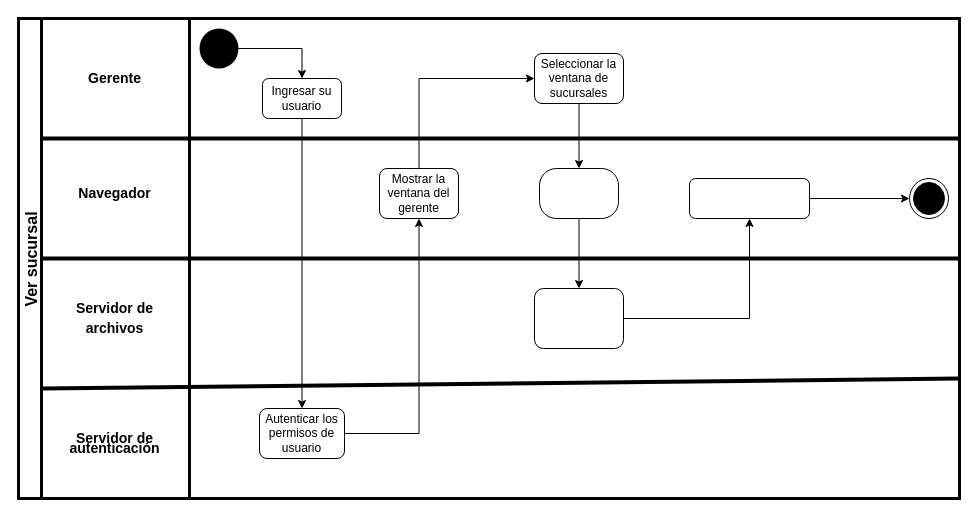
Image size: 980x518. Some labels were removed from this diagram. The centre of each missing label's shape, as x and y in pixels:
"Mostrar sucursal" goes at pixel 749 198.
"Obtener datos de la sucursal seleccionada" goes at pixel 579 318.
"Seleccionar sucursal" goes at pixel 578 193.
